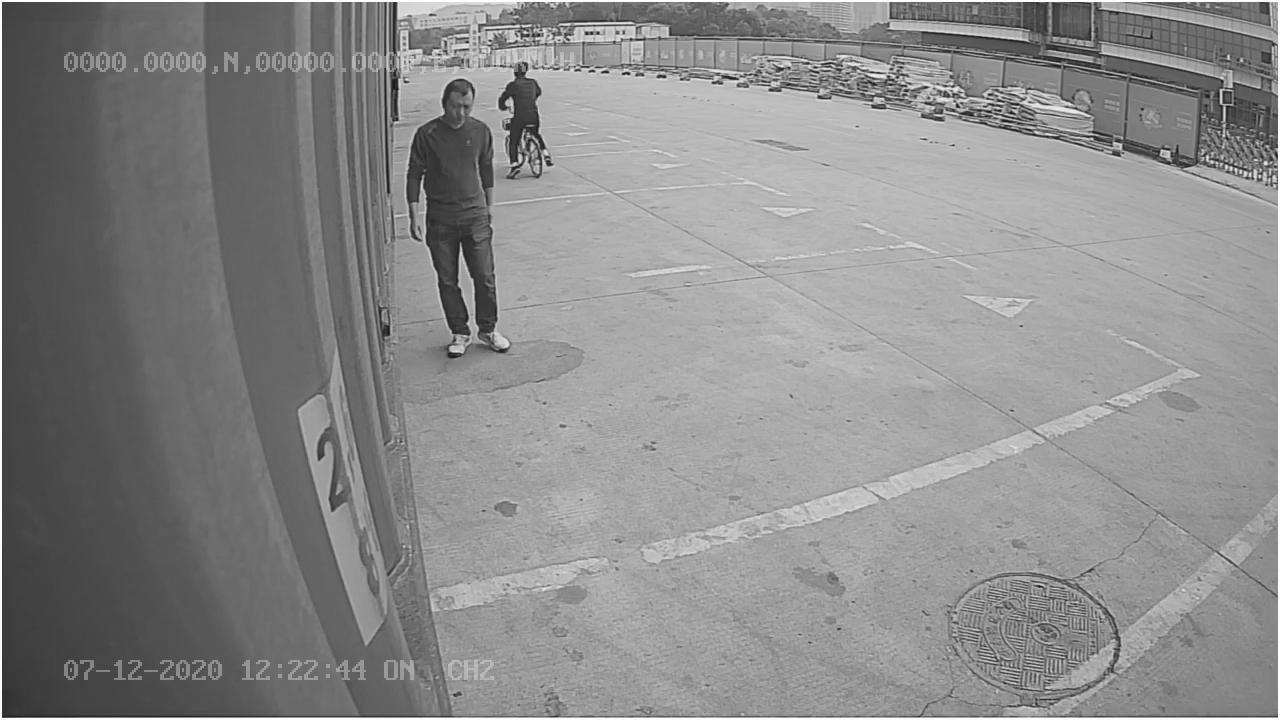person: (401, 75, 511, 362)
